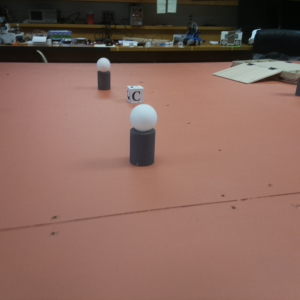blockC: (127, 85, 141, 104)
obstacle: (129, 106, 155, 167), (97, 58, 112, 91)
slope: (216, 64, 279, 84)
